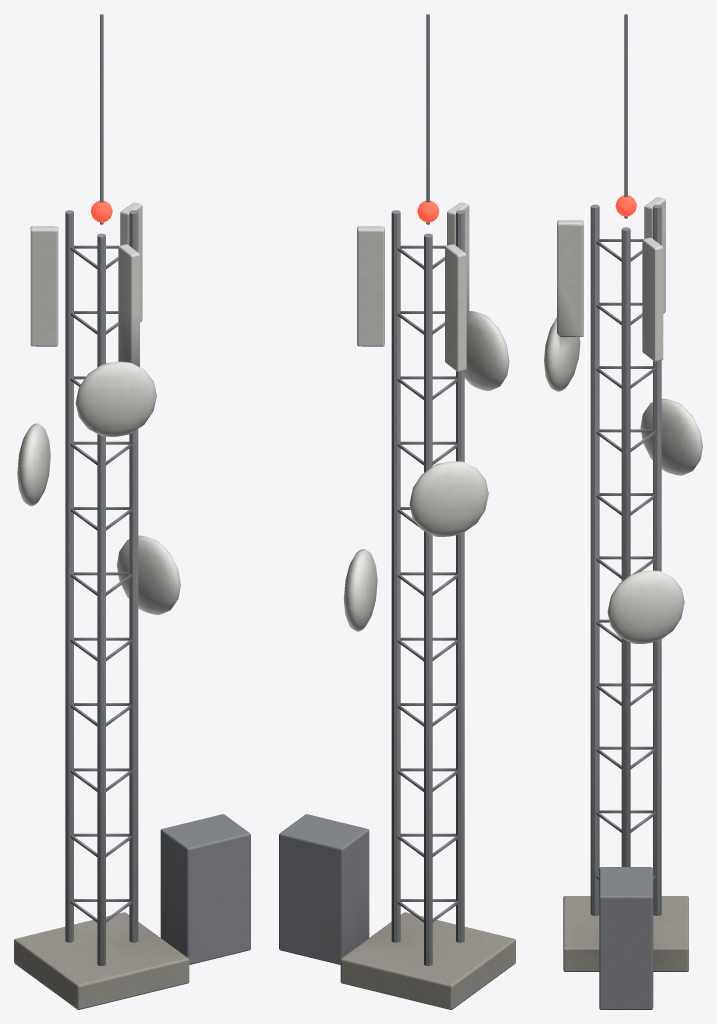
The model's file is roof_mast.glb.
3 views of the same model, side by side, from view 1: azimuth 30°, elevation 25°; view 2: azimuth 150°, elevation 25°; view 3: azimuth 270°, elevation 25° (orthographic). The views are drawn at different scales.
Visible parts, largest first — view 1: roof_mast_galvanised, roof_mast_plastic_white, cabinet, base; view 2: roof_mast_galvanised, roof_mast_plastic_white, cabinet, base; view 3: roof_mast_galvanised, roof_mast_plastic_white, cabinet, base.
Boxes of the visible parts, x1,y1,x2,y2 form: roof_mast_galvanised: (65,14,138,965); roof_mast_plastic_white: (17,202,180,614); cabinet: (160,814,250,964); base: (14,912,189,1009); roof_mast_galvanised: (391,14,464,965); roof_mast_plastic_white: (343,202,509,631); cabinet: (279,814,369,964); base: (340,912,515,1009); roof_mast_galvanised: (590,14,661,915); roof_mast_plastic_white: (544,197,702,643); cabinet: (599,867,653,1009); base: (563,896,688,971).
Size of what is drawn, in the model's own units: 2.58 by 11.45 by 1.77.
Materials: 5 (4 with a texture image).
